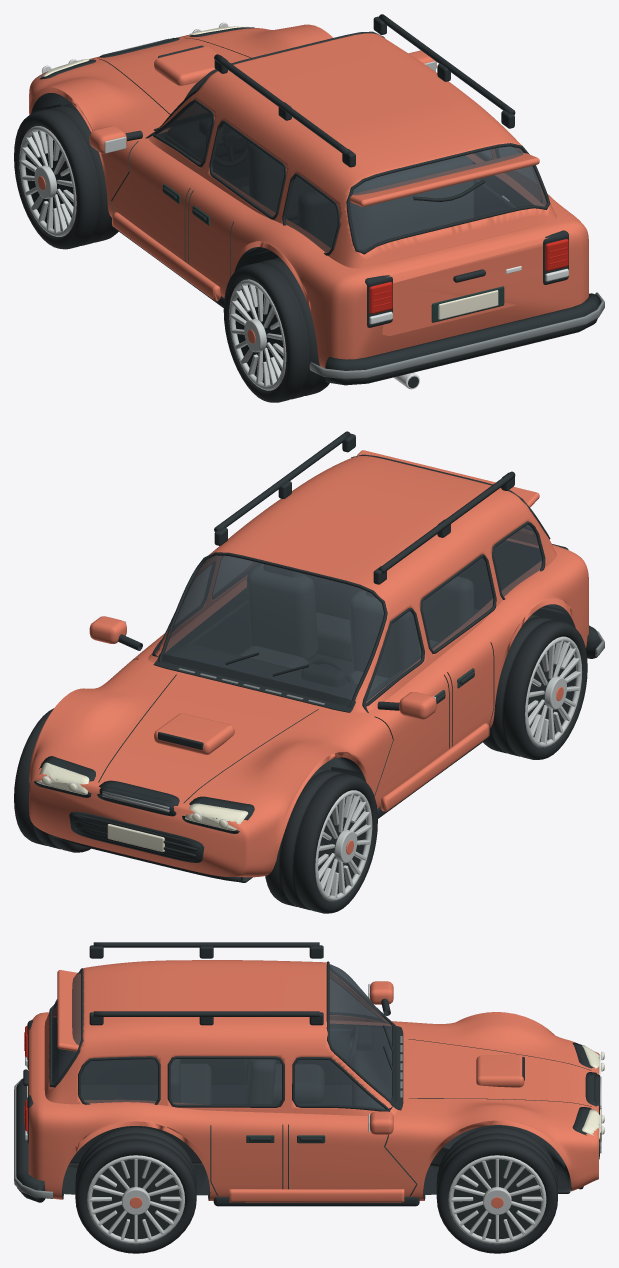
Rendered from nagare.fbx.
The picture shows the model from 3 angles, top to bottom: view 1: azimuth 30°, elevation 25°; view 2: azimuth 150°, elevation 25°; view 3: azimuth 270°, elevation 25°; orthographic projection. The views are drawn at different scales.
Visible parts, largest first — view 1: Body, Wheel_FL_Mesh, Wheel_RL_Mesh; view 2: Body, Wheel_FL_Mesh, Wheel_RL_Mesh, Wheel_FR_Mesh; view 3: Body, Wheel_RR_Mesh, Wheel_FR_Mesh.
Part boxes in pixels (<box>): Body: <box>29,14,604,389</box>; Wheel_FL_Mesh: <box>14,103,118,249</box>; Wheel_RL_Mesh: <box>223,257,329,402</box>; Body: <box>29,431,604,882</box>; Wheel_FL_Mesh: <box>265,767,377,913</box>; Wheel_RL_Mesh: <box>483,614,587,759</box>; Wheel_FR_Mesh: <box>14,708,90,852</box>; Body: <box>14,942,604,1206</box>; Wheel_RR_Mesh: <box>75,1127,196,1253</box>; Wheel_FR_Mesh: <box>436,1127,557,1253</box>.
Size of the model in its own units: 238 by 169 by 419.
